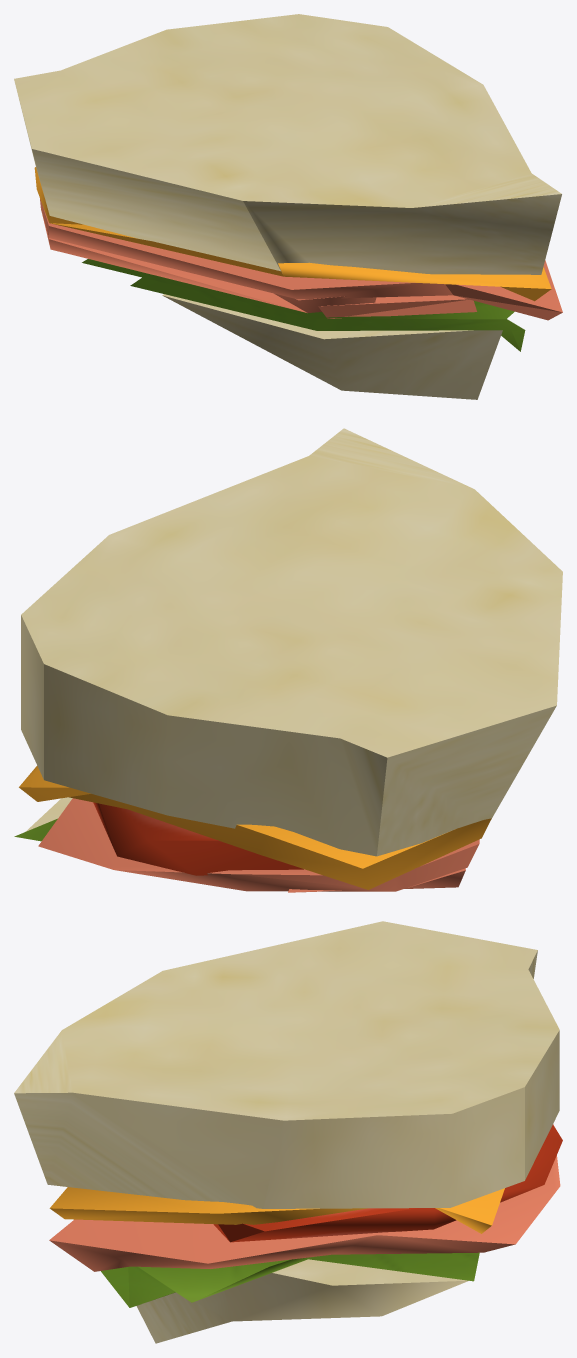
File: Sandwich_4.fbx
3 renders of one model, top to bottom at view 1: azimuth 30°, elevation 25°; view 2: azimuth 150°, elevation 25°; view 3: azimuth 270°, elevation 25°, orthographic. The views are drawn at different scales.
Parts seen in each view (by area): view 1: sandwich_Part_2; view 2: sandwich_Part_2; view 3: sandwich_Part_2.
Part boxes in pixels (x1,y1,x2,y2): sandwich_Part_2: [14, 14, 562, 399]; sandwich_Part_2: [14, 428, 562, 892]; sandwich_Part_2: [14, 921, 562, 1343].
Size of the model in its own units: 0.0977 by 0.0559 by 0.1077.
